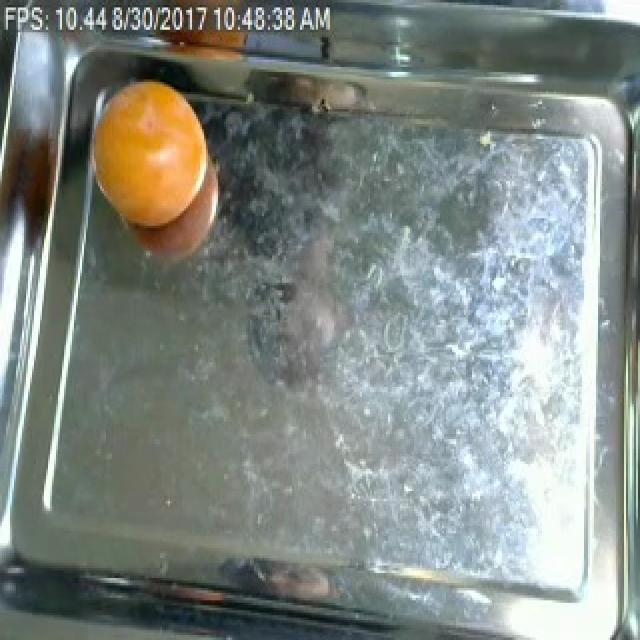Fruit: (84, 70, 216, 236)
